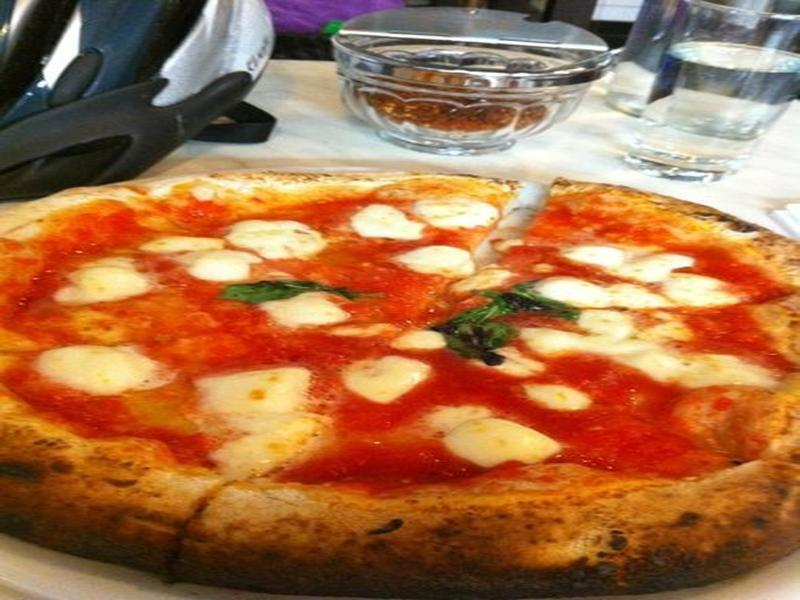pizza: (21, 105, 800, 587)
